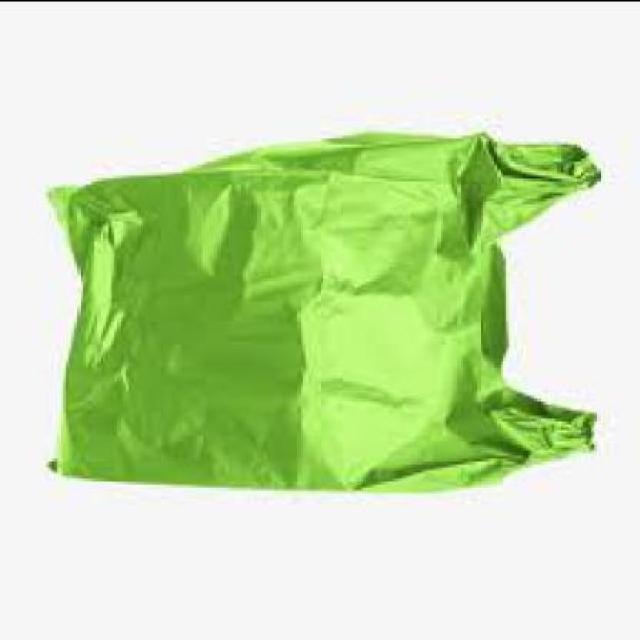PLASTIC: (48, 128, 602, 488)
